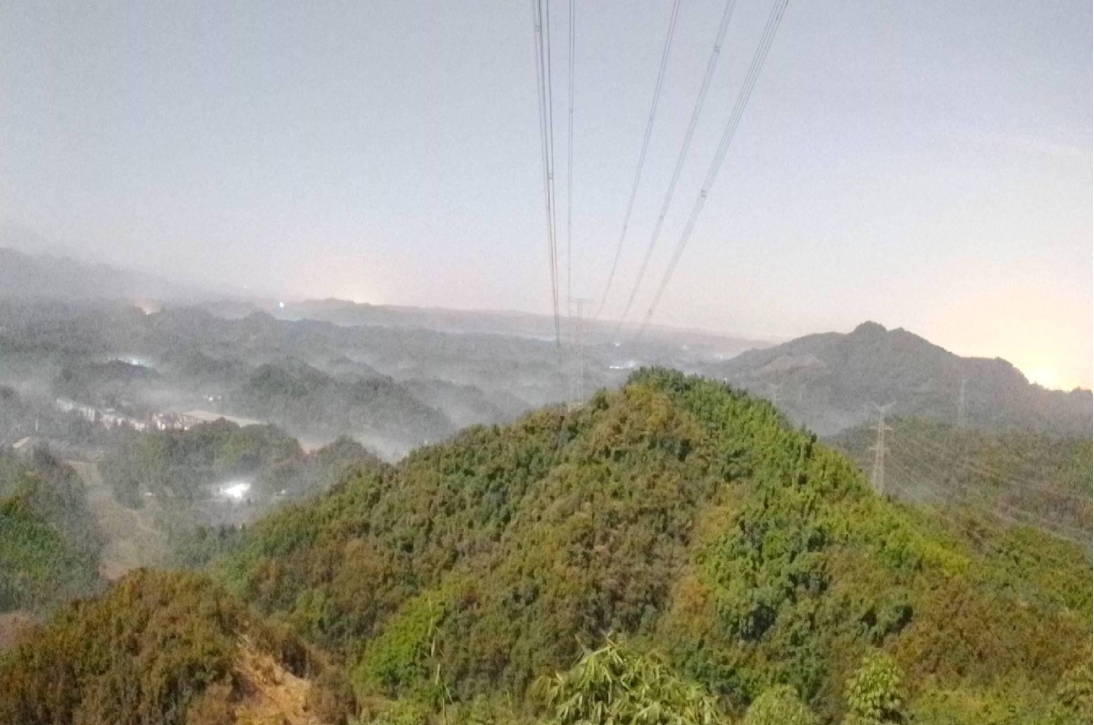山间云雾: (0, 216, 651, 579), (651, 322, 866, 448)
